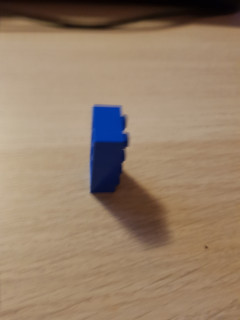2x4 blue: (89, 103, 130, 195)
